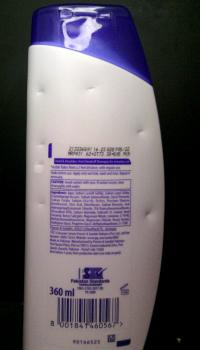dent_marginal: (32, 158, 48, 177), (84, 82, 104, 94), (142, 207, 157, 220), (35, 140, 48, 152), (35, 198, 47, 211), (33, 86, 46, 96), (132, 128, 146, 137)
